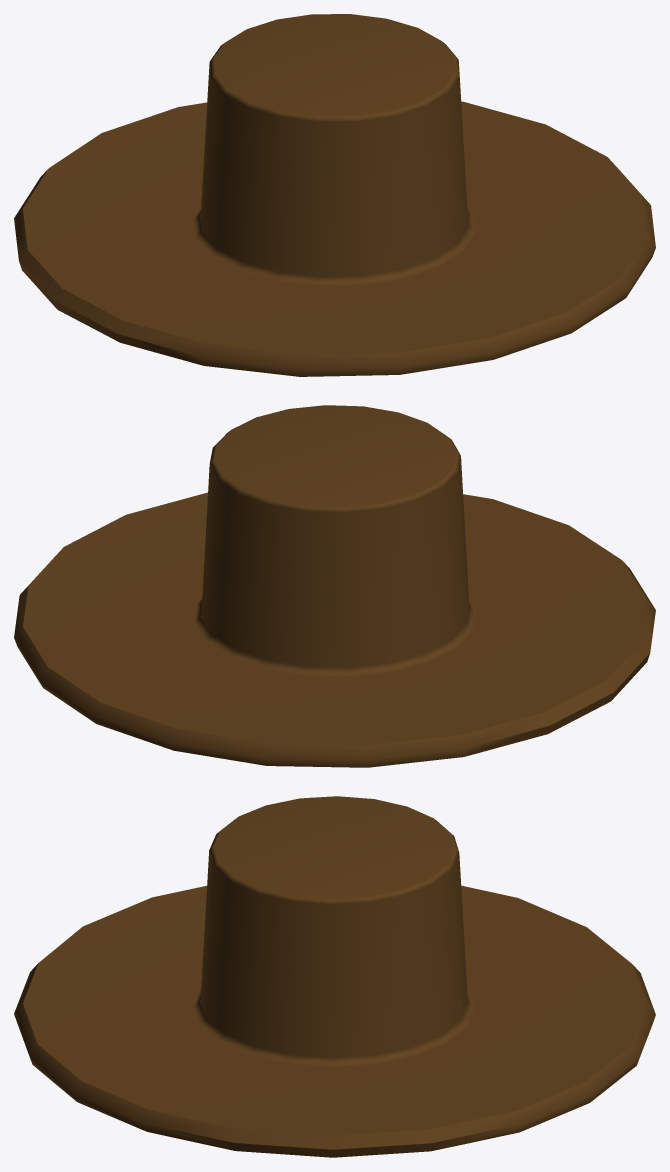
Rendered from Hat_Strow.fbx.
The picture shows the model from 3 angles, top to bottom: view 1: azimuth 30°, elevation 25°; view 2: azimuth 150°, elevation 25°; view 3: azimuth 270°, elevation 25°; orthographic projection.
Parts seen in each view (by area): view 1: Hat_Strow; view 2: Hat_Strow; view 3: Hat_Strow.
Part boxes in pixels (x1=…): Hat_Strow: x1=14, y1=14, x2=655, y2=376; Hat_Strow: x1=14, y1=405, x2=655, y2=767; Hat_Strow: x1=14, y1=796, x2=655, y2=1157.
Size of the model in its own units: 3.05 by 0.9299 by 3.06.
